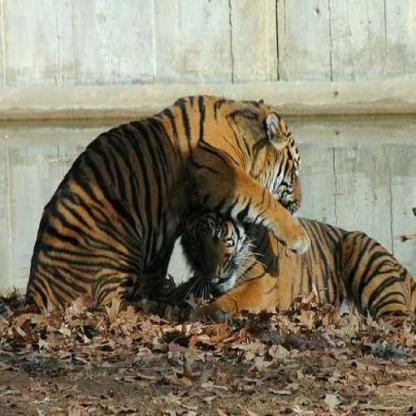Tiger: (19, 96, 308, 337), (172, 182, 416, 351)
